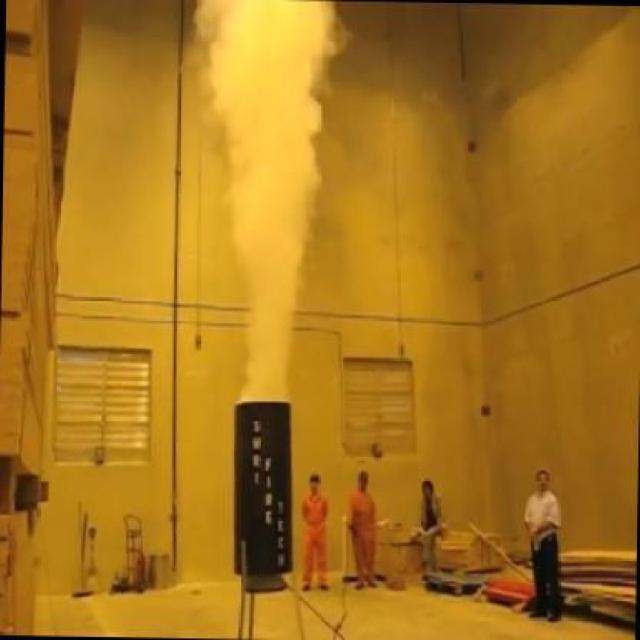fire: (186, 0, 357, 392)
